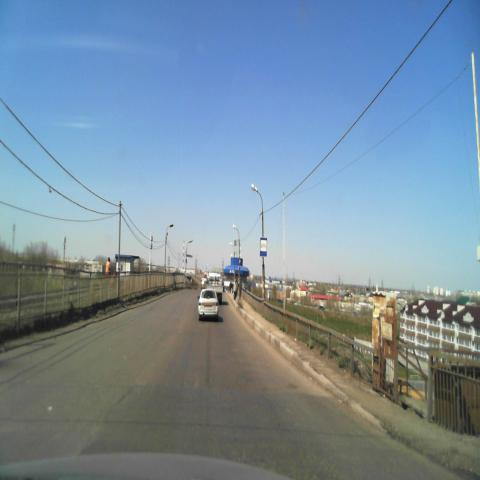7_12: (259, 236, 267, 256)
